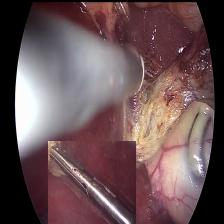Grasper: (47, 140, 134, 224)
Hook: (130, 41, 161, 99)
